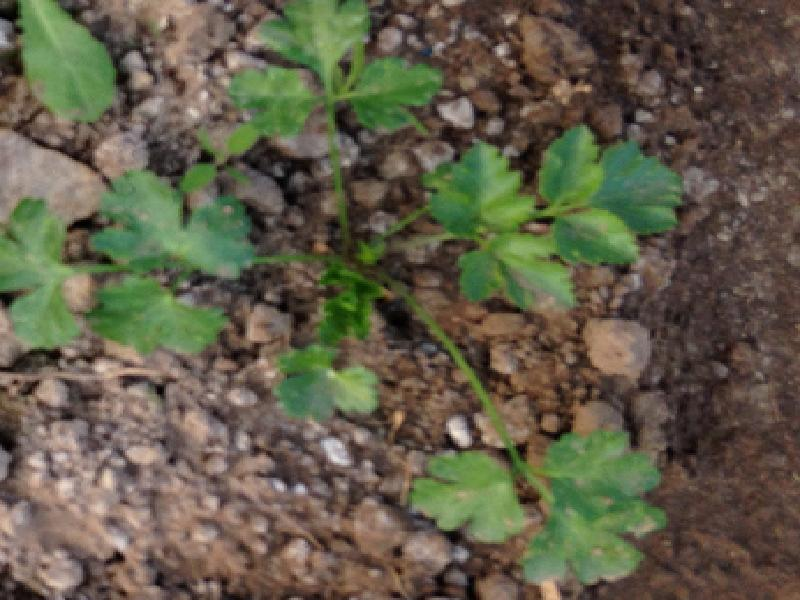radish: (135, 53, 718, 465)
